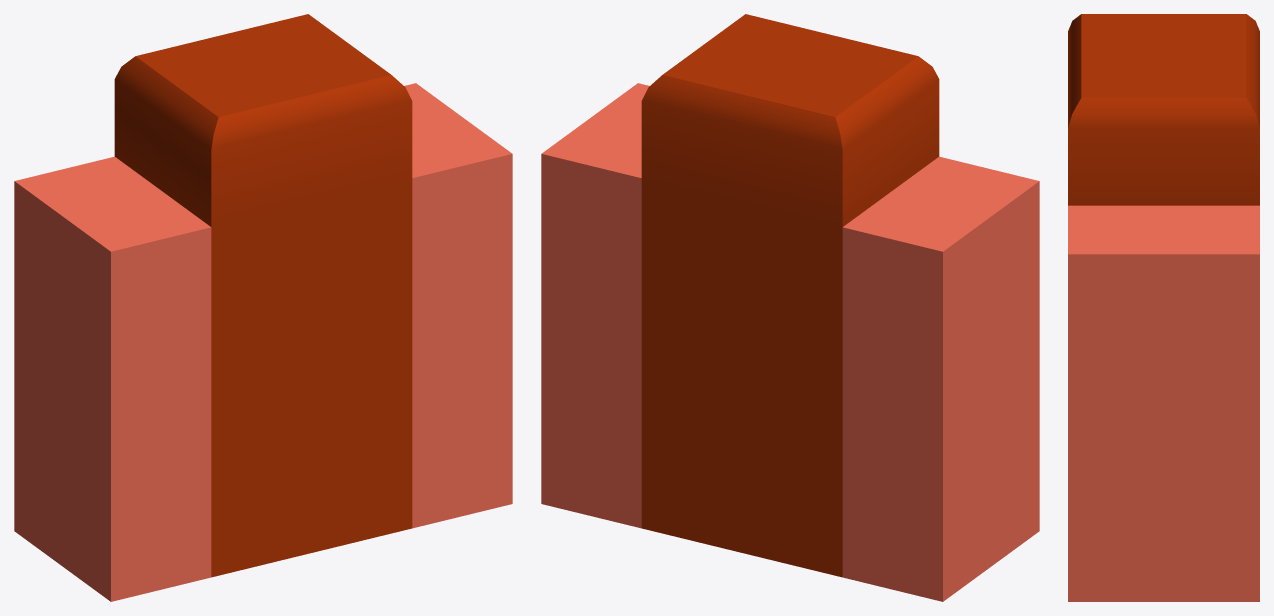
File: CS_Red_Block.fbx
3 views of the same model, side by side, from view 1: azimuth 30°, elevation 25°; view 2: azimuth 150°, elevation 25°; view 3: azimuth 270°, elevation 25° (orthographic).
Parts seen in each view (by area): view 1: Red_Block; view 2: Red_Block; view 3: Red_Block.
Boxes of the visible parts, x1=… form: Red_Block: x1=14, y1=14, x2=512, y2=601; Red_Block: x1=541, y1=14, x2=1039, y2=601; Red_Block: x1=1068, y1=14, x2=1259, y2=601.
Bounding box in the file's own units: 60 × 64.55 × 25.
